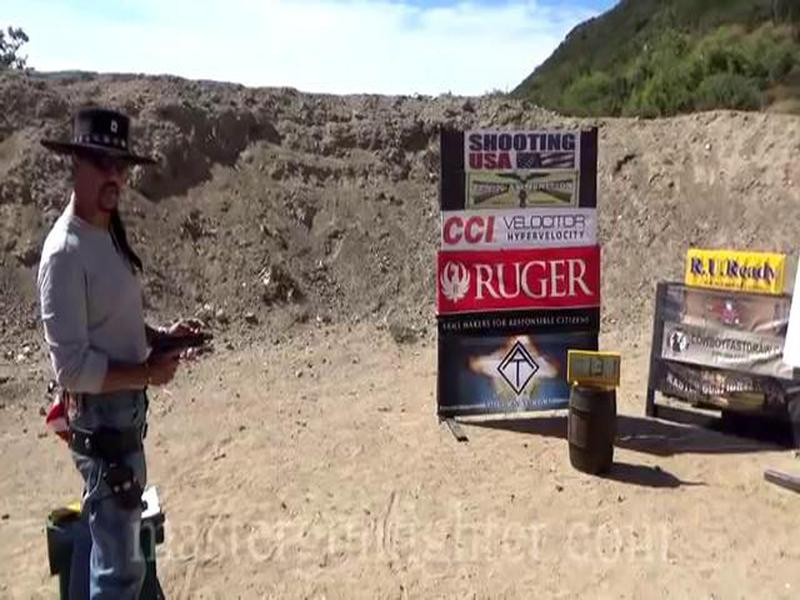Pistola: (136, 327, 247, 383)
